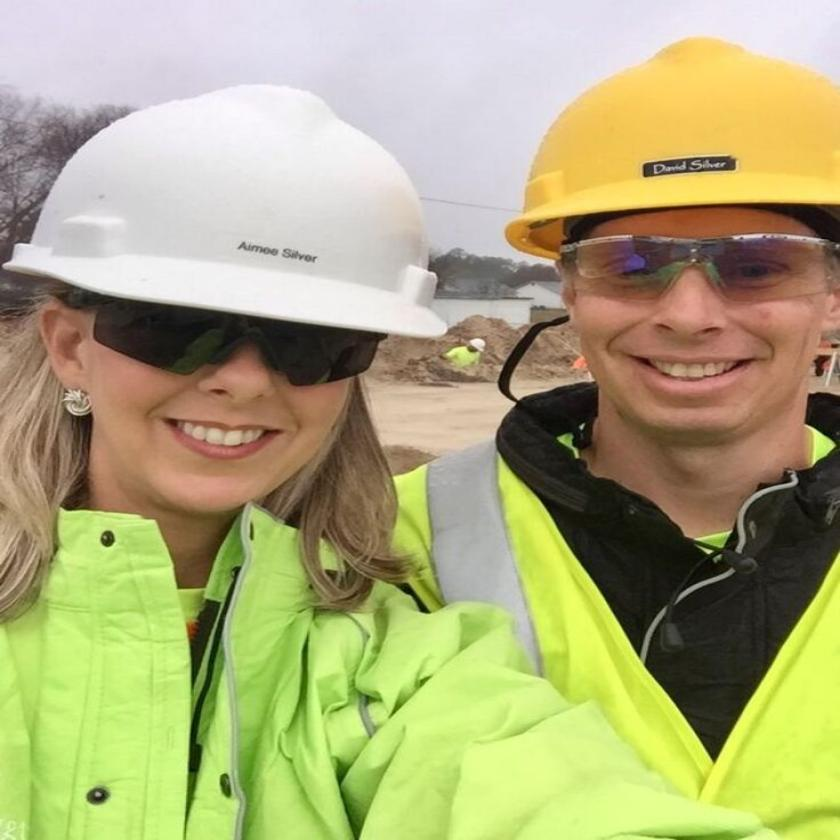Con_casco: (31, 85, 460, 528), (502, 38, 840, 454)
